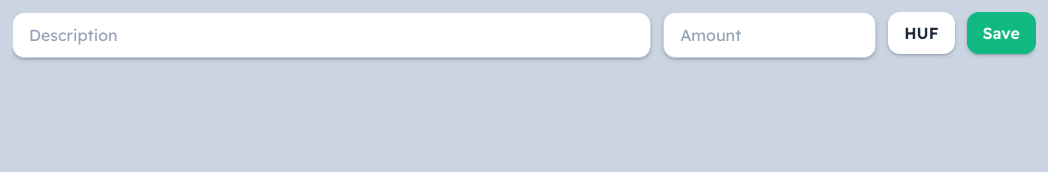
Scenario: SpendingCreatorForm › should disable save button when cannot submit
The width and height of the screenshot is (1048, 172).
Type "Test" into the field with placeholder "Description". click: (332, 35)
box: [12,12,651,58]
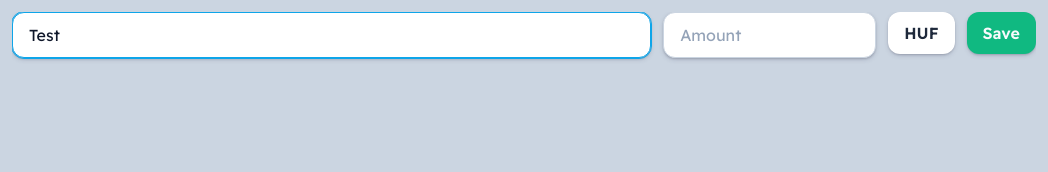
Expected: the button "Save" is enabled, [966,12,1036,54]
Clear the field with placeholder "Description". click: (332, 35)
box: [12,12,651,58]
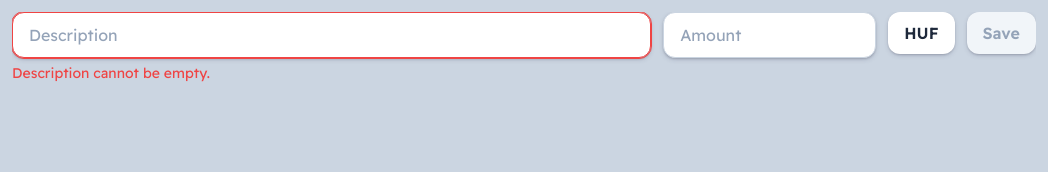
Now the button "Save" is disabled, box [966,12,1036,54]
